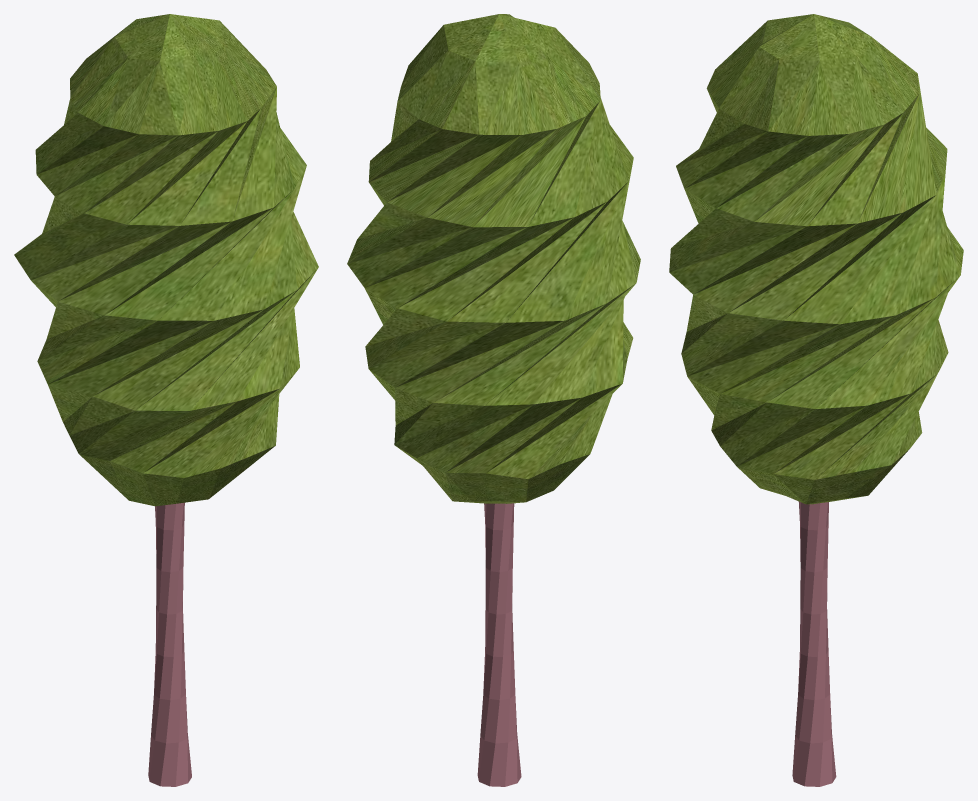
Rendered from arbol.obj.
3 renders of one model, left to right at view 1: azimuth 30°, elevation 25°; view 2: azimuth 150°, elevation 25°; view 3: azimuth 270°, elevation 25°, orthographic.
Visible parts, largest first — view 1: low_poly_tree; view 2: low_poly_tree; view 3: low_poly_tree.
Boxes of the visible parts, x1,y1,x2,y2 form: low_poly_tree: (14, 14, 318, 786); low_poly_tree: (347, 14, 640, 786); low_poly_tree: (669, 14, 963, 786).
Size of the model in its own units: 1.03 by 2.96 by 1.03.
Materials: 2 (2 with a texture image).
